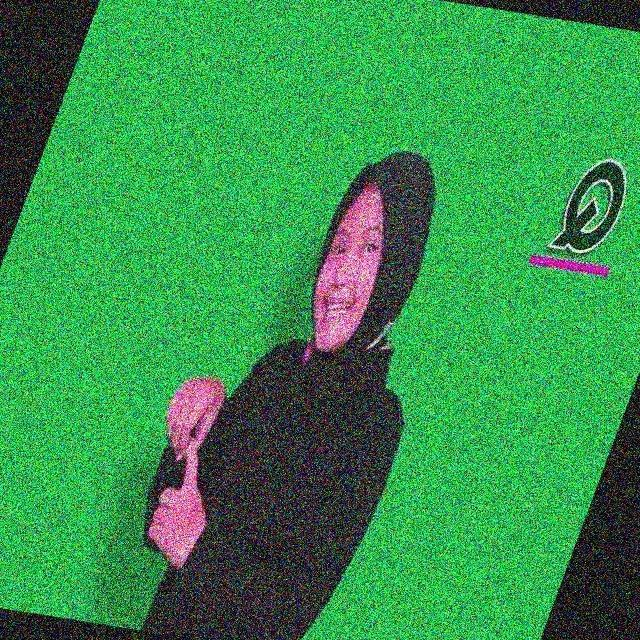Q: (142, 364, 238, 566)
